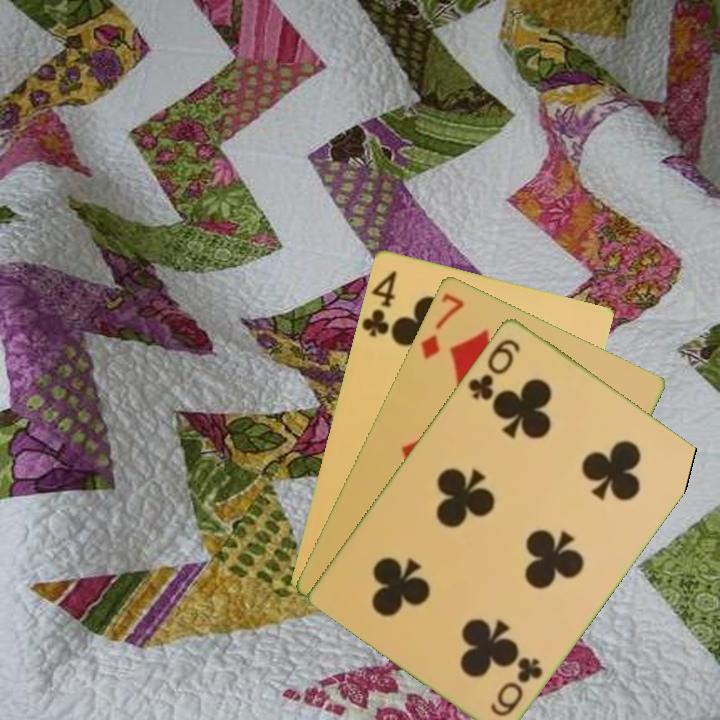4c: (358, 266, 399, 339)
6c: (464, 334, 524, 403), (486, 652, 546, 719)
7d: (416, 288, 467, 362)
